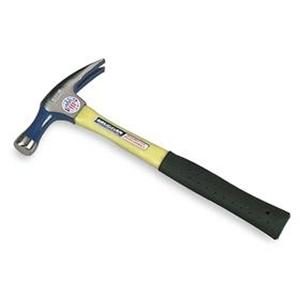hammer: (11, 55, 291, 240)
